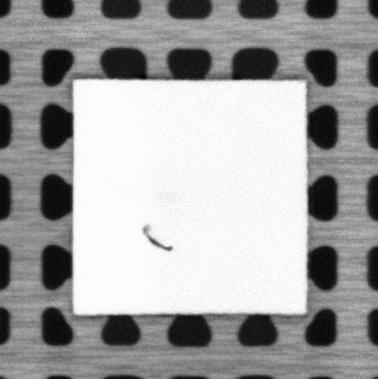DIE_INK: (141, 226, 175, 251)
